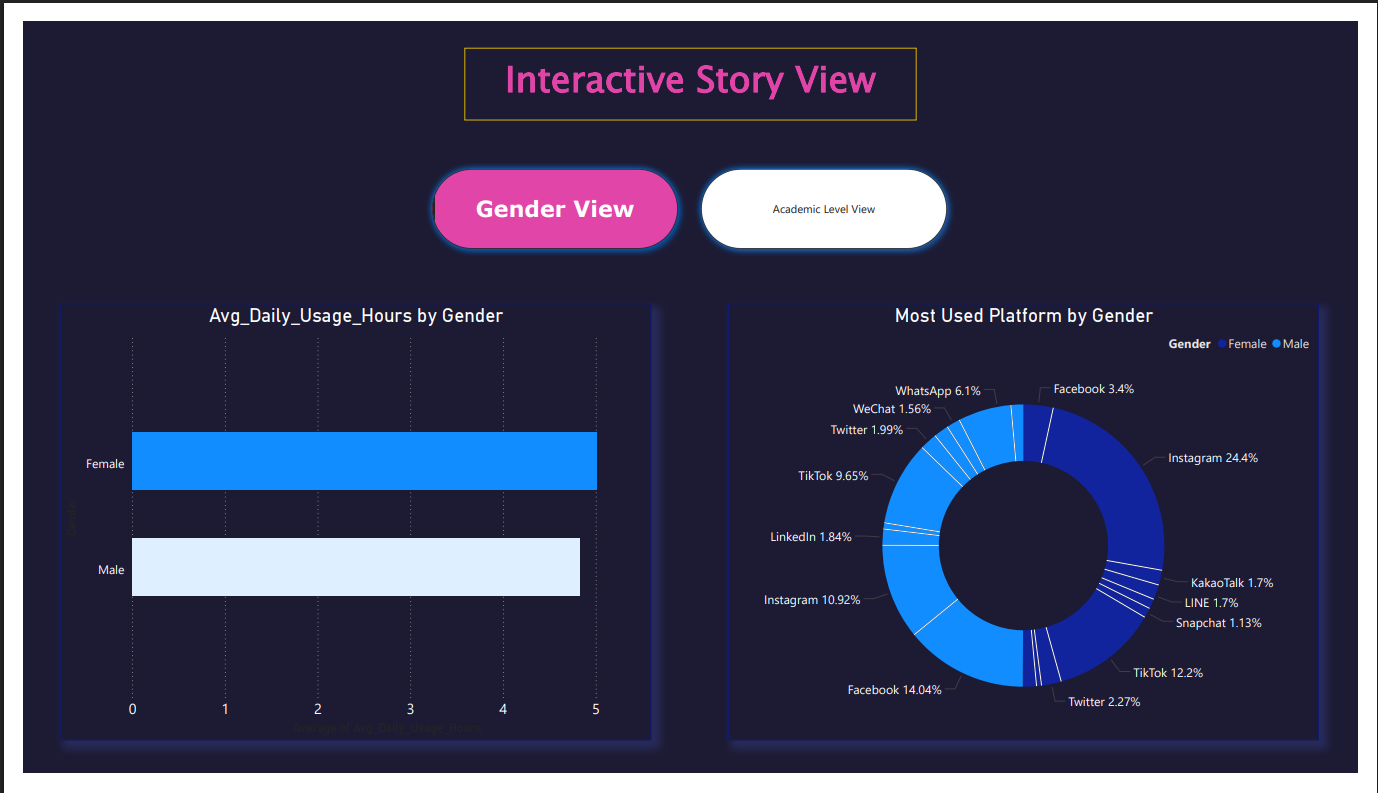

This screenshot's page, from the dashboard's own definition file:
{"tool":"powerbi","page":{"name":"Interactive Story View","canvas":[1600,900],"ordinal":5},"visuals":[{"type":"barChart","title":"Avg_Daily_Usage_Hours by Gender","fields":{"Category":["Student Details.Gender"],"Y":["Avg(Platform Details.Avg_Daily_Usage_Hours)"]},"box":[43.7,337.8,708.8,523.3],"z":0},{"type":"donutChart","title":"Most Used Platform by Gender","fields":{"Category":["Student Details.Gender"],"Series":["Platform Details.Most_Used_Platform"],"Y":["CountNonNull(Student Details.Gender)"]},"box":[844.5,337.8,708.8,523.3],"z":1000},{"type":"bookmarkNavigator","box":[482.4,168.1,634.9,113.1],"z":4000},{"type":"textbox","box":[529.3,32.5,542,86.1],"z":5000}]}

Visuals, with their boxes on the page's 1600x900 design canvas (x1, y1, x2, y2). These are canvas units, not pixel positions in the 1378x793 screenshot, which may show the page scaled, cropped or inside an application window:
"Avg_Daily_Usage_Hours by Gender" barChart: bbox(44, 338, 752, 861)
"Most Used Platform by Gender" donutChart: bbox(844, 338, 1553, 861)
bookmarkNavigator: bbox(482, 168, 1117, 281)
textbox: bbox(529, 32, 1071, 119)
